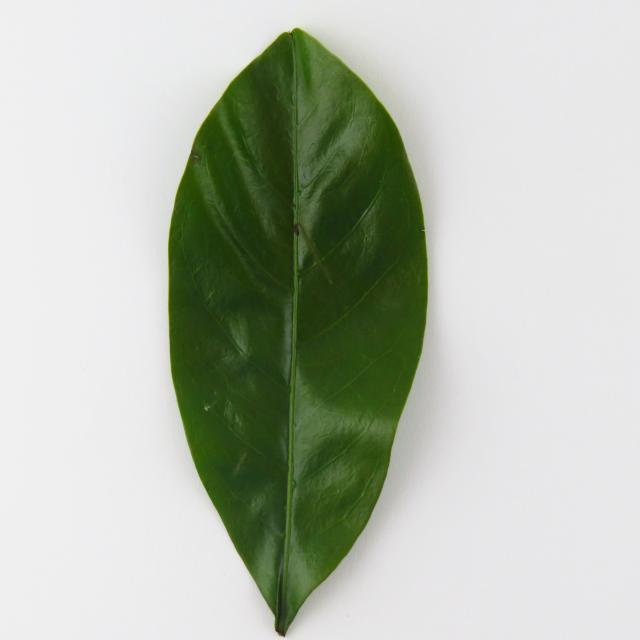DeficienciaNutricional-Boro: (169, 28, 428, 635)
